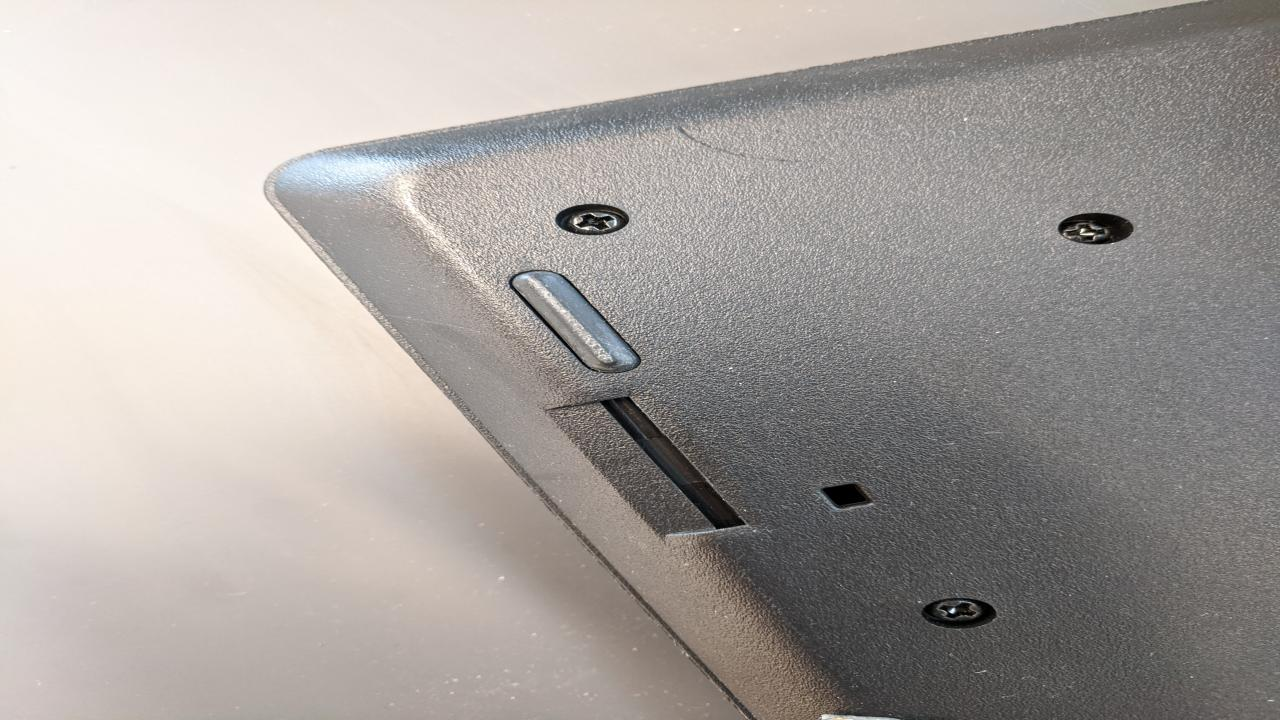CRS: (561, 207, 635, 236), (924, 597, 995, 624), (1059, 218, 1111, 245)
